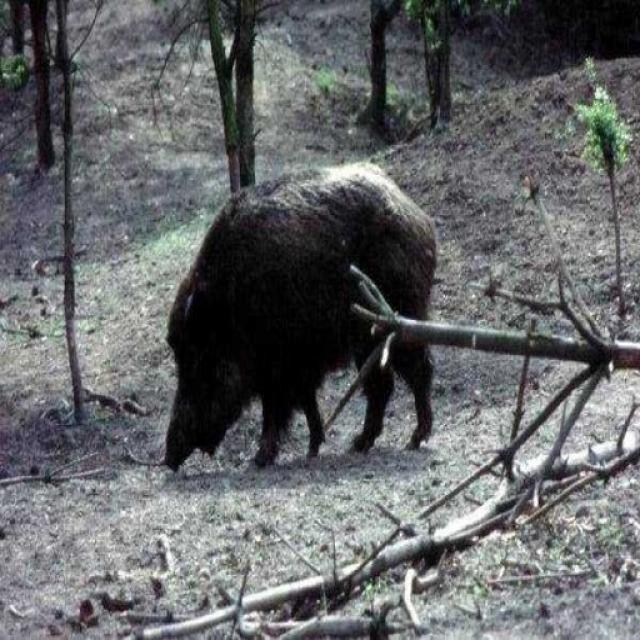pig: (124, 132, 487, 490)
